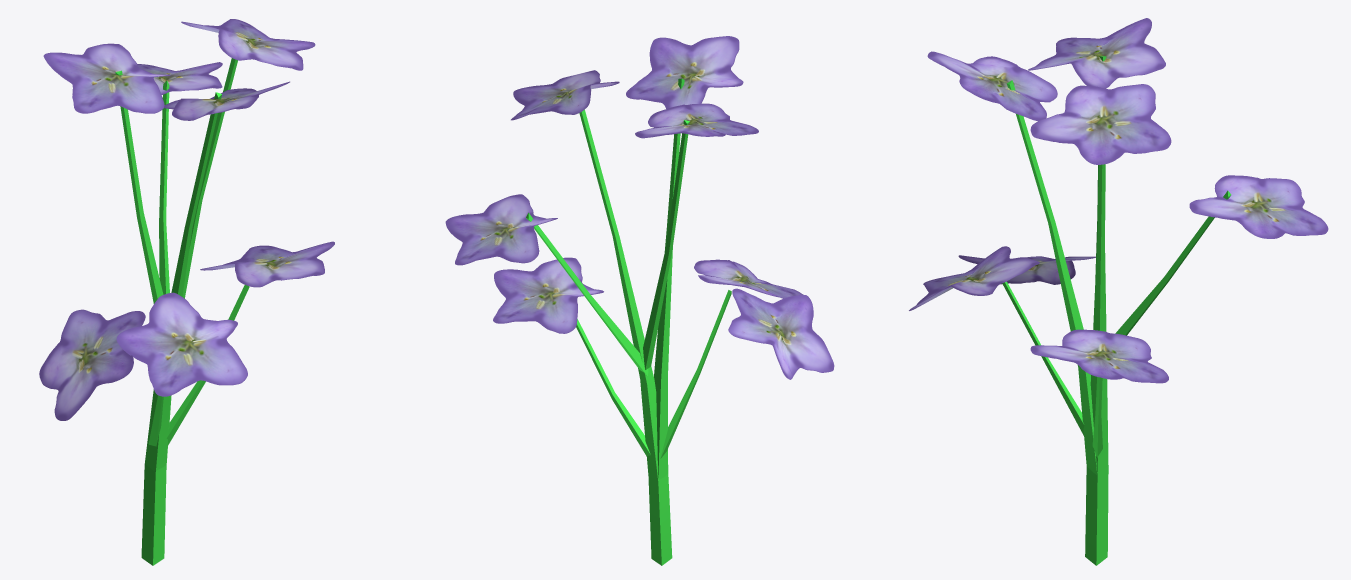
The model's file is Flower_A.FBX.
3 views of the same model, side by side, from view 1: azimuth 30°, elevation 25°; view 2: azimuth 150°, elevation 25°; view 3: azimuth 270°, elevation 25° (orthographic). The views are drawn at different scales.
Visible parts, largest first — view 1: FlowerStalk, Plane001, Plane006, Plane003, Plane005, Plane002, Plane004, Plane007; view 2: FlowerStalk, Plane004, Plane006, Plane005, Plane007, Plane003, Plane002, Plane001; view 3: FlowerStalk, Plane002, Plane007, Plane003, Plane005, Plane004, Plane001, Plane006.
Boxes of the visible parts, x1,y1,x2,y2 form: FlowerStalk: [115, 58, 249, 565]; Plane001: [116, 292, 247, 396]; Plane006: [39, 309, 145, 420]; Plane003: [43, 43, 170, 113]; Plane005: [200, 241, 334, 287]; Plane002: [181, 19, 315, 70]; Plane004: [164, 81, 289, 120]; Plane007: [137, 62, 222, 94]; FlowerStalk: [526, 78, 731, 565]; Plane004: [626, 36, 743, 108]; Plane006: [728, 288, 834, 379]; Plane005: [493, 257, 603, 333]; Plane007: [445, 194, 557, 265]; Plane003: [635, 103, 758, 138]; Plane002: [511, 70, 619, 120]; Plane001: [694, 259, 803, 298]; FlowerStalk: [1002, 56, 1231, 565]; Plane002: [1030, 84, 1171, 164]; Plane007: [1189, 175, 1328, 238]; Plane003: [1028, 18, 1165, 88]; Plane005: [1030, 329, 1168, 383]; Plane004: [927, 51, 1057, 120]; Plane001: [909, 246, 1039, 310]; Plane006: [958, 255, 1095, 284].
Size of the model in its own units: 699 by 1020 by 818.
